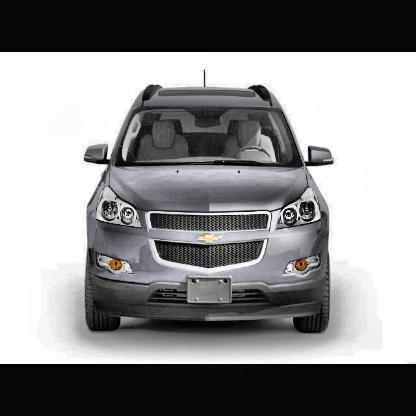Chevrolet Traverse SUV 2012: (83, 71, 340, 342)
